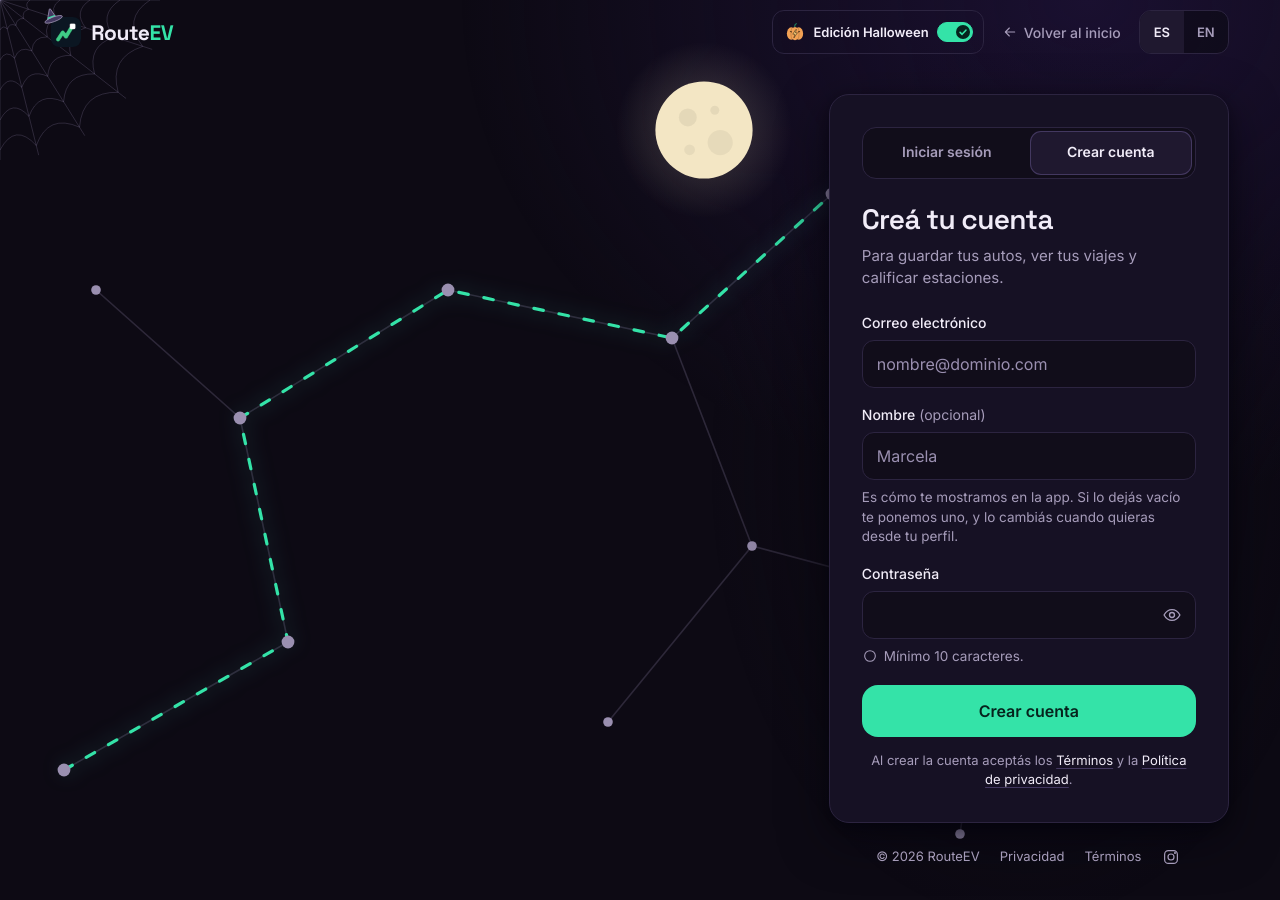
Test: LoginPage › al crear la cuenta, el mínimo de la contraseña se dice antes de escribir y se actualiza
Check: the text "Mínimo 10 caracteres." is shown, box [884, 647, 1024, 666]
Type "ruta-a" into the password field labelled "Contraseña" at (1029, 615), box [862, 591, 1196, 639]
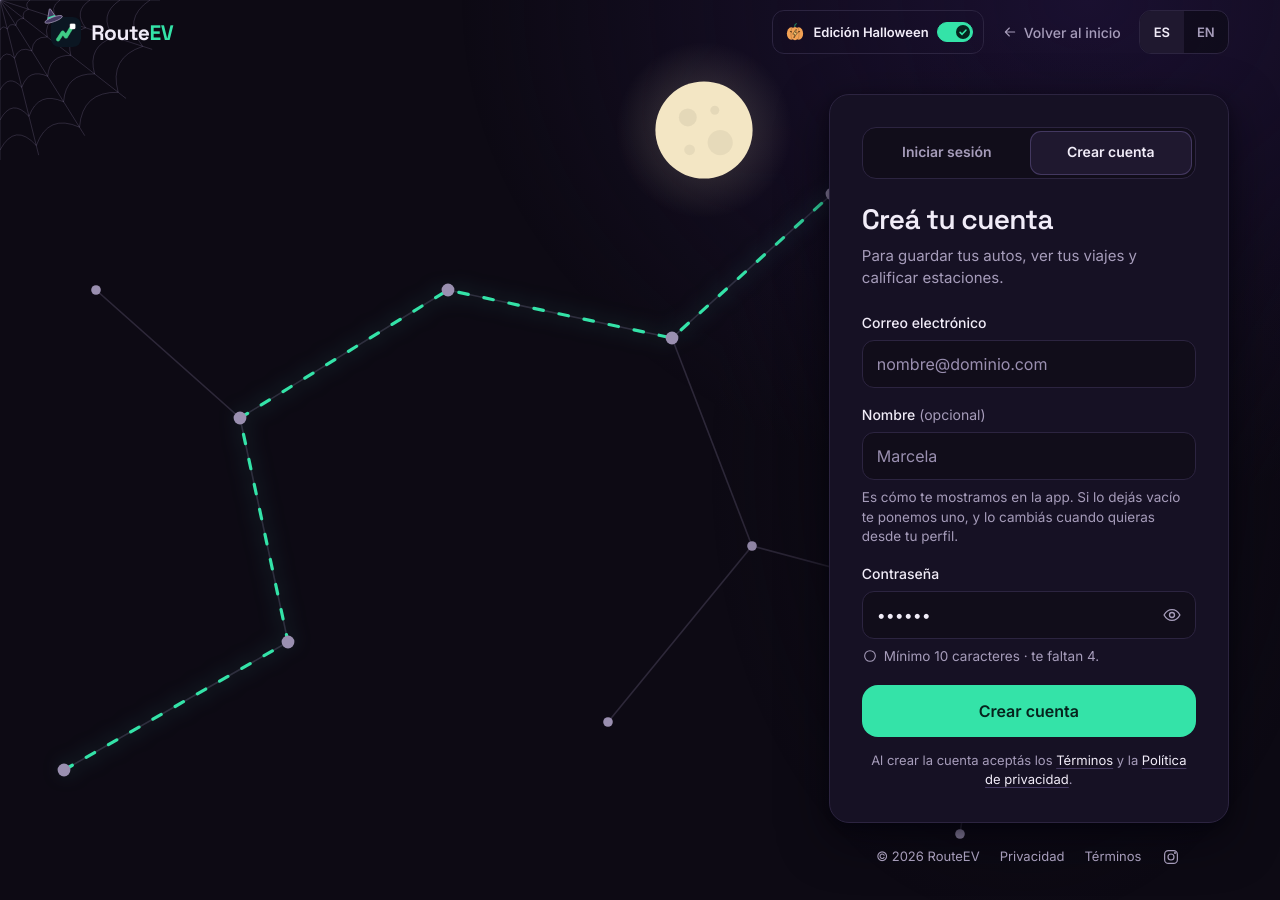
Check: the text "Mínimo 10 caracteres · te faltan 4." is shown, box [884, 647, 1099, 666]
Type "ruta-a-rivera" into the password field labelled "Contraseña" at (1029, 615), box [862, 591, 1196, 639]
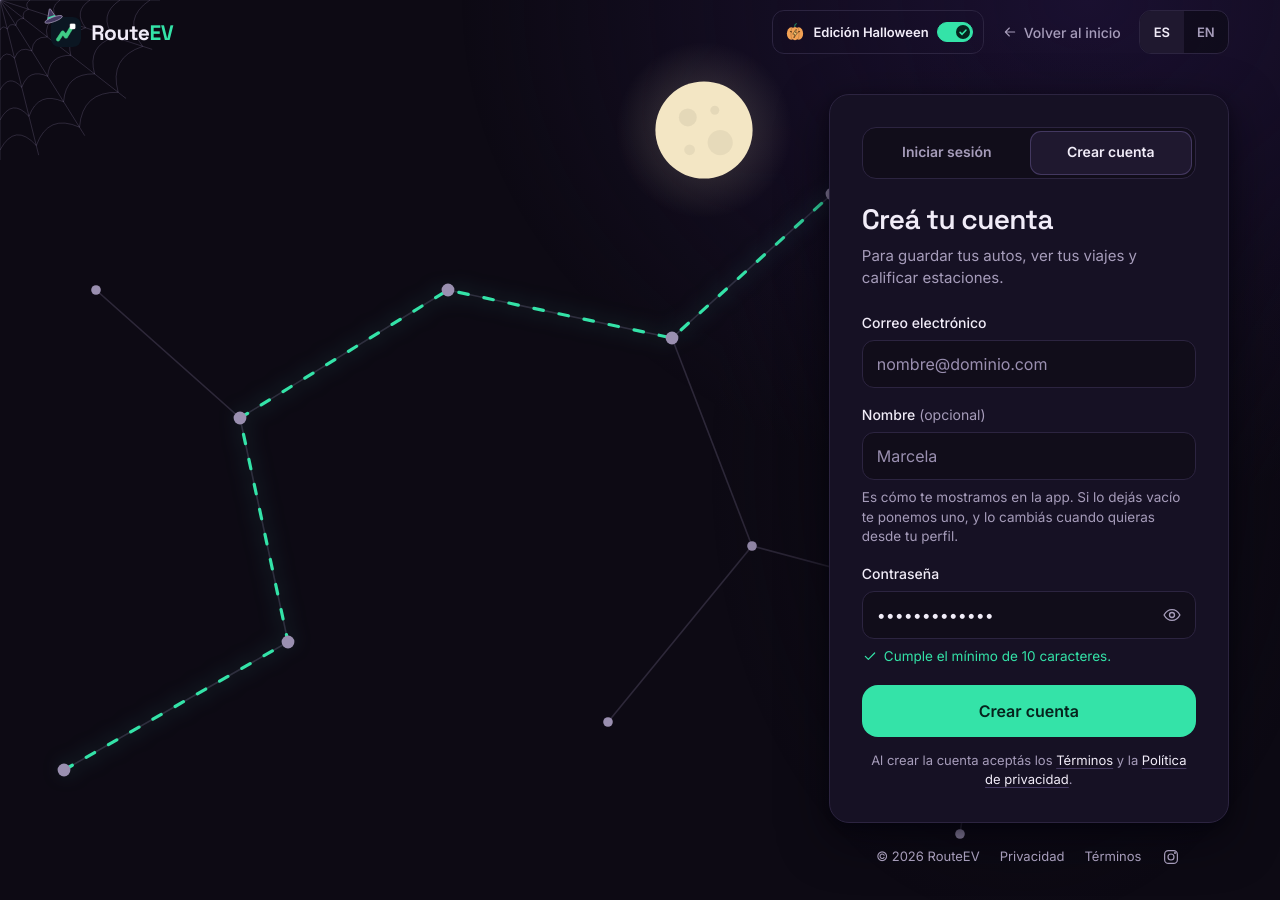
Check: the text "Cumple el mínimo de 10 caracteres." is shown, box [884, 647, 1111, 666]
